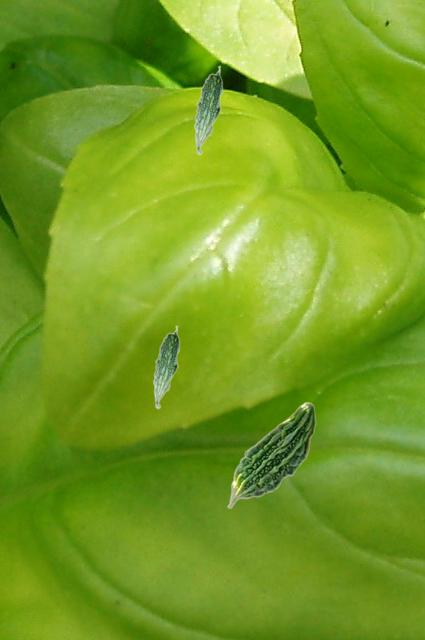ampalaya: (226, 400, 318, 509), (193, 65, 223, 155), (152, 325, 180, 409)
